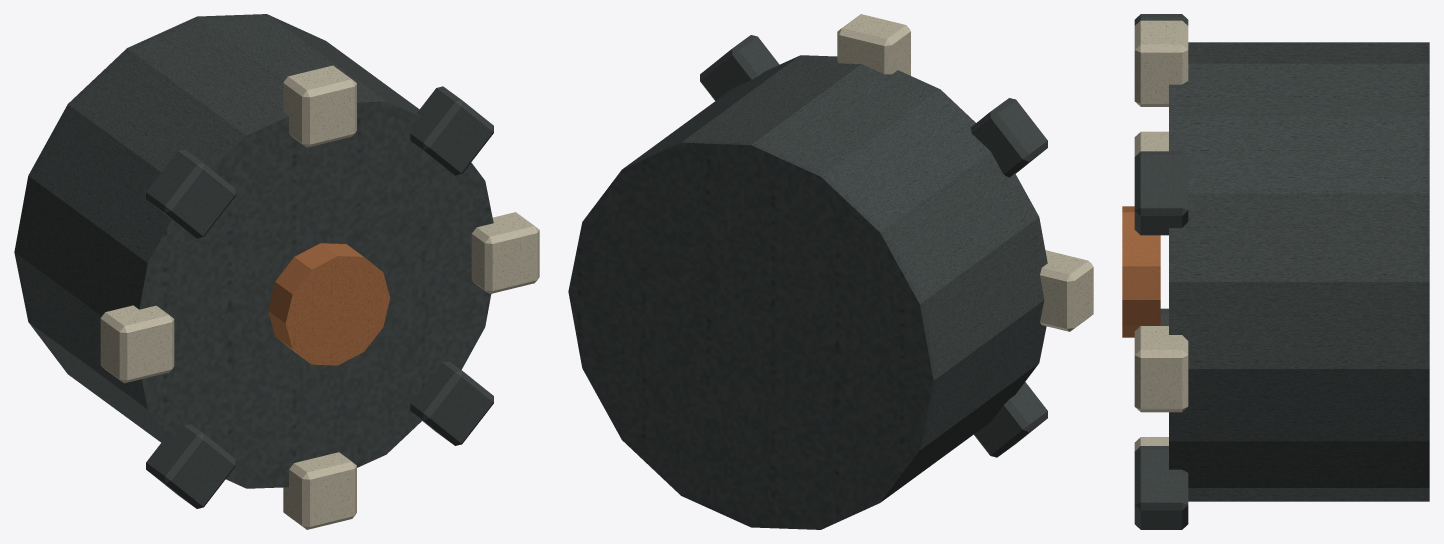
File: FeedRoller.fbx
3 renders of one model, left to right at view 1: azimuth 30°, elevation 25°; view 2: azimuth 150°, elevation 25°; view 3: azimuth 270°, elevation 25°, orthographic. The views are drawn at different scales.
Visible parts, largest first — view 1: FeedRoller; view 2: FeedRoller; view 3: FeedRoller.
Part boxes in pixels (x1,y1,x2,y2): FeedRoller: (14,14,539,529); FeedRoller: (568,14,1093,529); FeedRoller: (1122,14,1429,529).
Bounding box in the file's own units: 34.5 × 34.5 × 20.05.
Materials: 1 (1 with a texture image).
